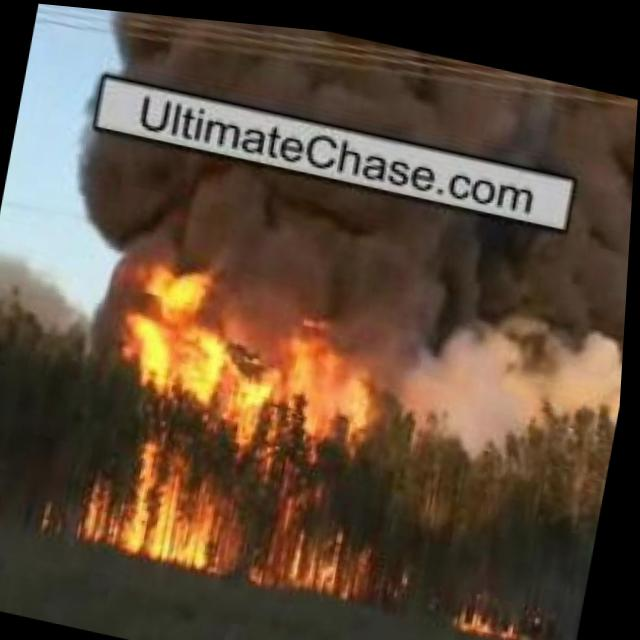Fire: (79, 252, 428, 600), (443, 589, 540, 633)
